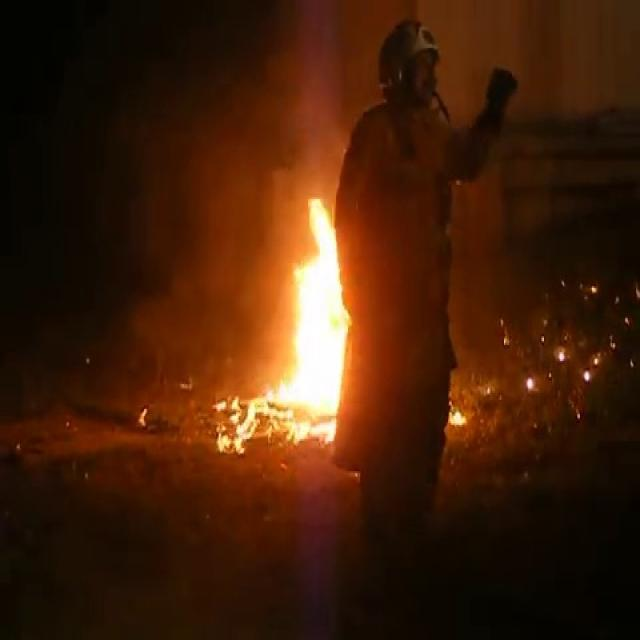Fire: (223, 186, 359, 447)
